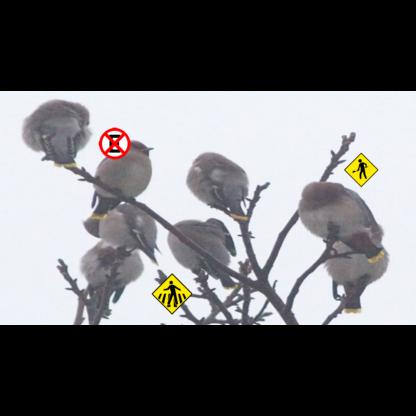A-24: (344, 153, 378, 187)
A-32b: (151, 273, 193, 315)
R-6c: (99, 128, 131, 160)
